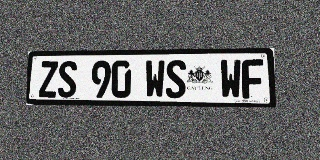0: (111, 60, 131, 98)
9: (91, 61, 111, 98)
F: (242, 59, 264, 99)
S: (166, 60, 186, 98), (58, 61, 77, 98)
W: (220, 59, 242, 99), (145, 60, 165, 98)
Z: (39, 61, 58, 97)
